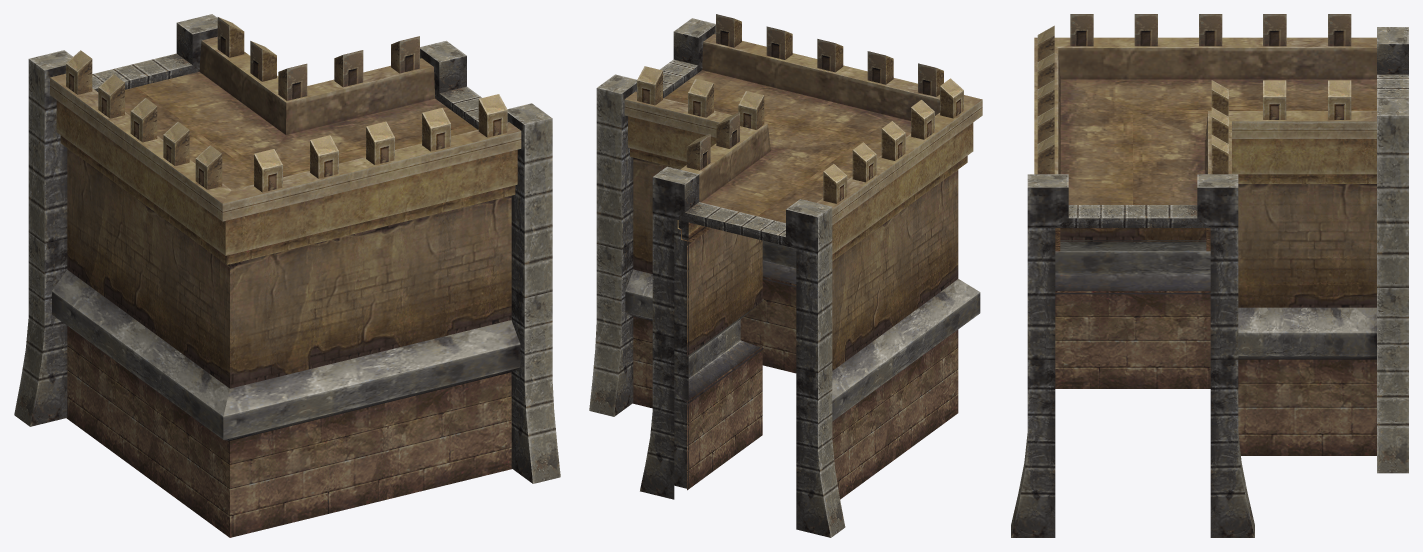
File: SC_tamalagebi_06.FBX
3 views of the same model, side by side, from view 1: azimuth 30°, elevation 25°; view 2: azimuth 150°, elevation 25°; view 3: azimuth 270°, elevation 25° (orthographic). The views are drawn at different scales.
Visible parts, largest first — view 1: SC_tamalagebi_06; view 2: SC_tamalagebi_06; view 3: SC_tamalagebi_06.
Part boxes in pixels (x1=…): SC_tamalagebi_06: x1=14, y1=14, x2=560, y2=537; SC_tamalagebi_06: x1=589, y1=14, x2=982, y2=537; SC_tamalagebi_06: x1=1011, y1=14, x2=1408, y2=537.
Size of the model in its own units: 690 by 720 by 691.
